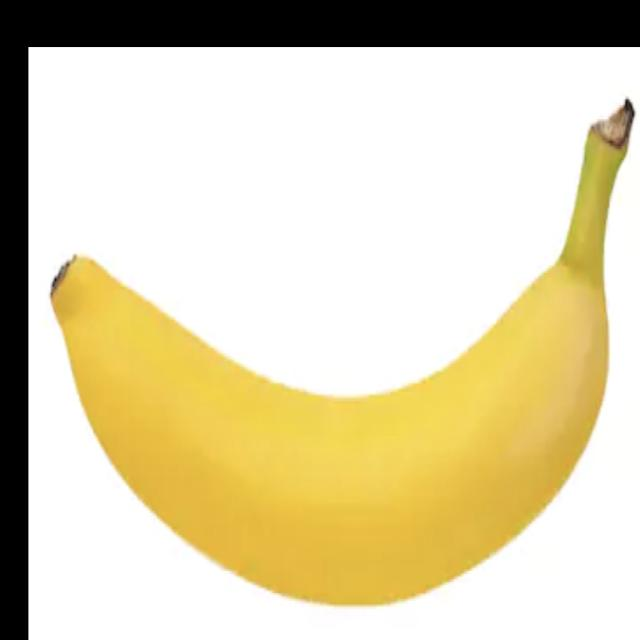Ripe: (32, 83, 640, 606)
